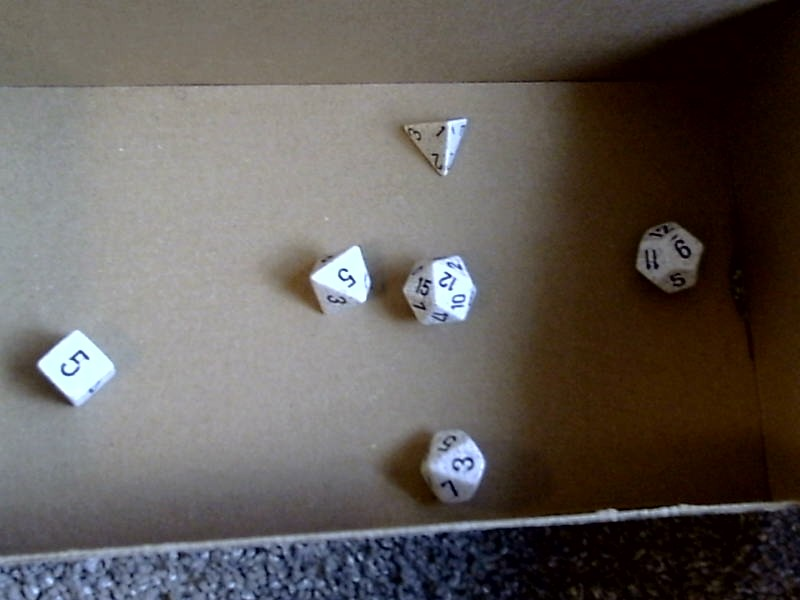d10 3: (415, 421, 490, 508)
d12 9: (622, 212, 712, 301)
d20 12: (398, 241, 477, 332)
d4 1: (387, 109, 475, 181)
d6 5: (28, 324, 123, 412)
d8 5: (304, 237, 374, 330)
